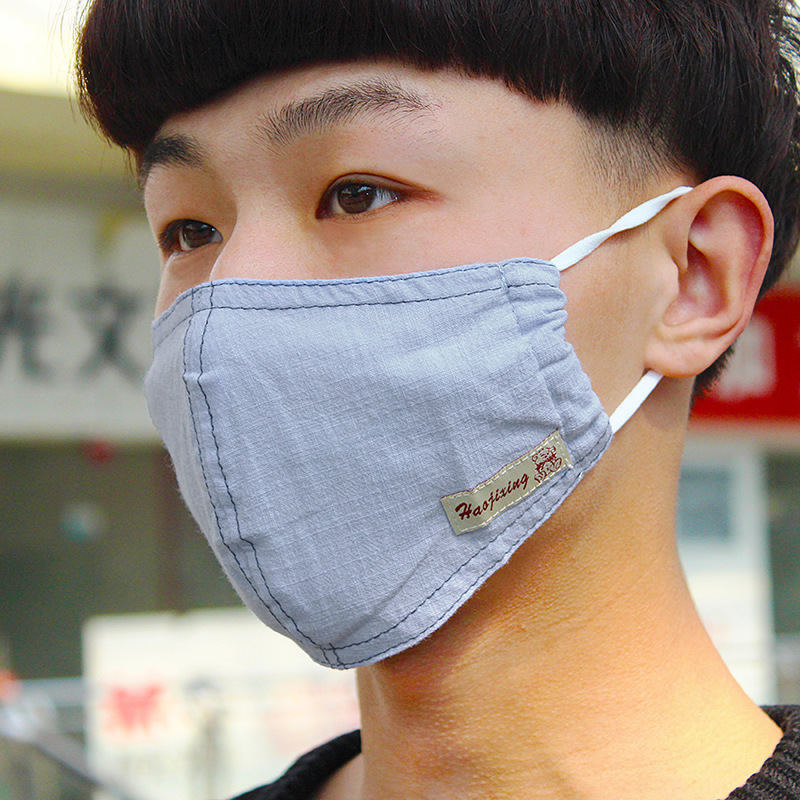face_mask: (145, 22, 615, 647)
